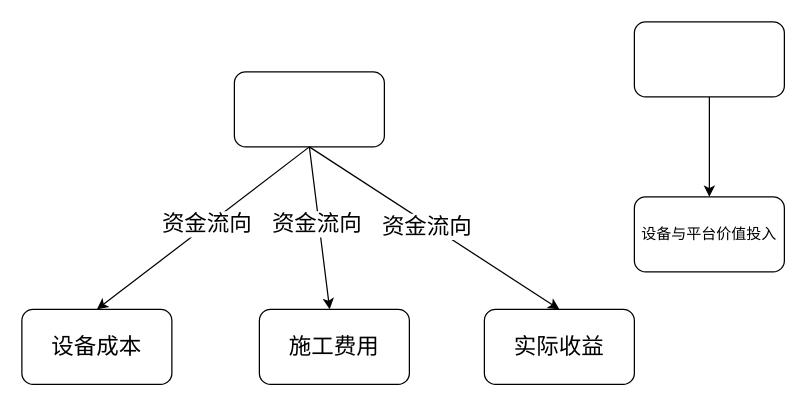
Some shapes in this 806 by 406 pixel diagram are drawn without their labels. Each missing label, with the centre of its shape:
学校获得: the point at 708,59
银行投资: the point at 308,109
